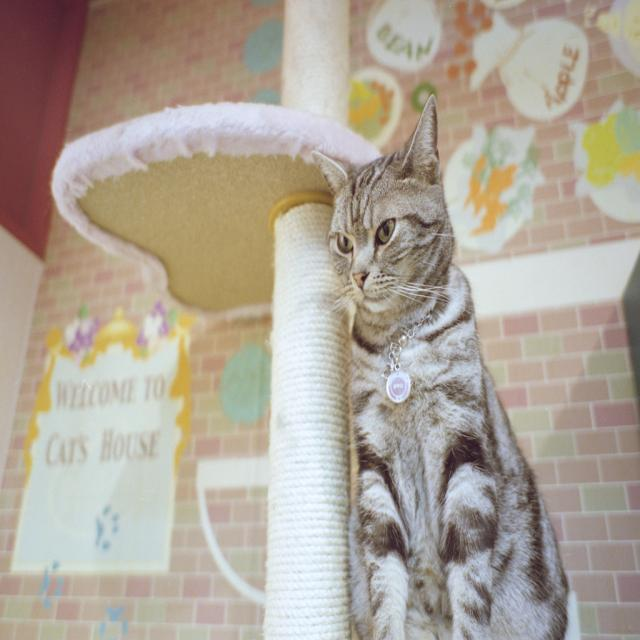Cat: (313, 96, 576, 638)
